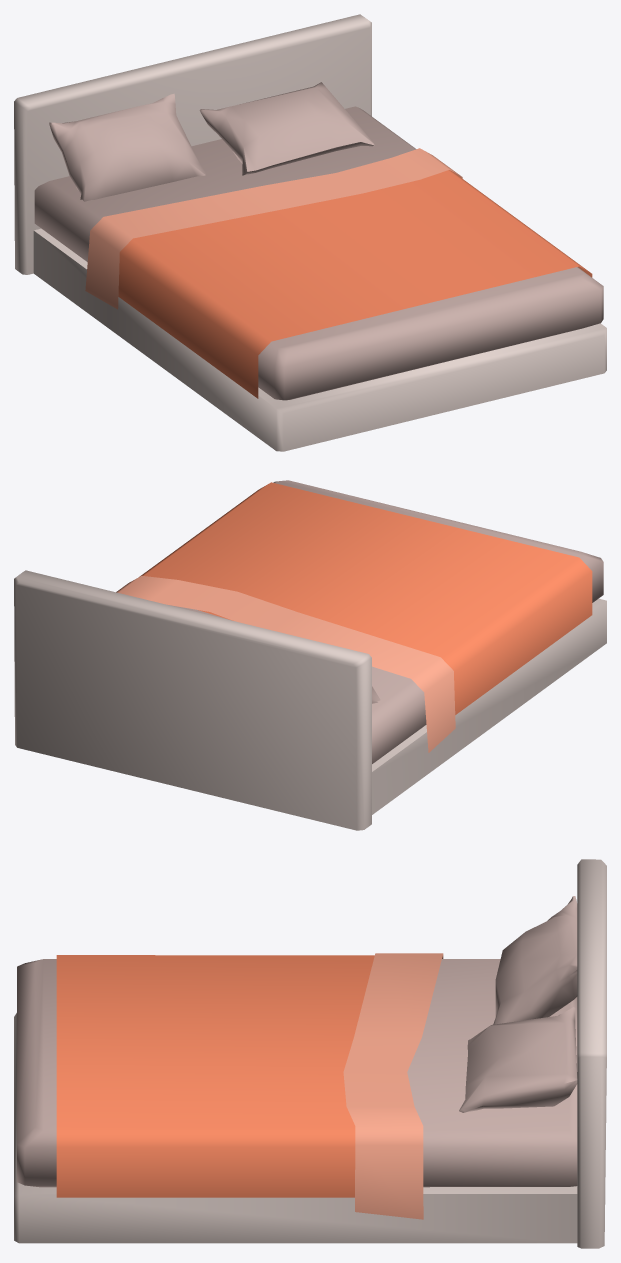
File: bed_007.glb
3 renders of one model, top to bottom at view 1: azimuth 30°, elevation 25°; view 2: azimuth 150°, elevation 25°; view 3: azimuth 270°, elevation 25°, orthographic. The views are drawn at different scales.
Parts seen in each view (by area): view 1: bed_007; view 2: bed_007; view 3: bed_007.
Boxes of the visible parts, x1,y1,x2,y2 form: bed_007: (14, 14, 606, 451); bed_007: (14, 480, 606, 830); bed_007: (14, 859, 606, 1248).
Bounding box in the file's own units: 1.38 × 0.6394 × 1.76.
1 material, 1 textured.
